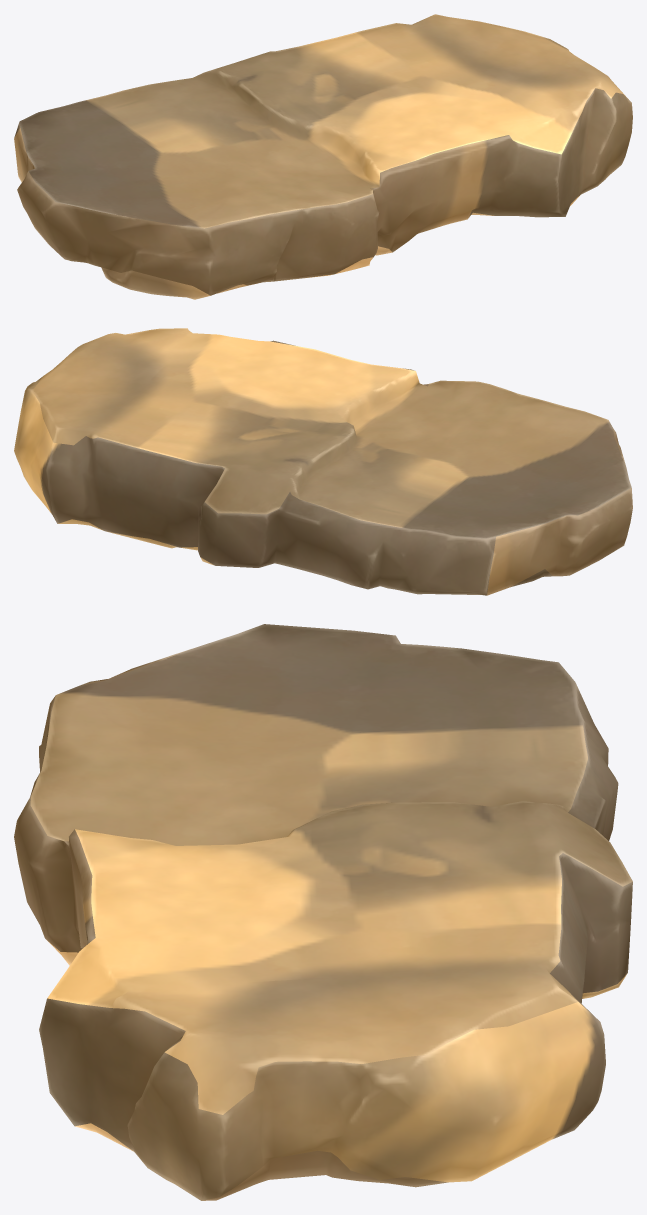
The model's file is SM_Cliff_02.fbx.
3 renders of one model, top to bottom at view 1: azimuth 30°, elevation 25°; view 2: azimuth 150°, elevation 25°; view 3: azimuth 270°, elevation 25°, orthographic. The views are drawn at different scales.
Parts seen in each view (by area): view 1: SM_Cliff_02_LOD0; view 2: SM_Cliff_02_LOD0; view 3: SM_Cliff_02_LOD0.
Part boxes in pixels (left/top/right/bottom): SM_Cliff_02_LOD0: left=14, top=14, right=632, bottom=299; SM_Cliff_02_LOD0: left=14, top=328, right=632, bottom=595; SM_Cliff_02_LOD0: left=14, top=624, right=632, bottom=1200.
Bounding box in the file's own units: 997 × 570 × 167.
